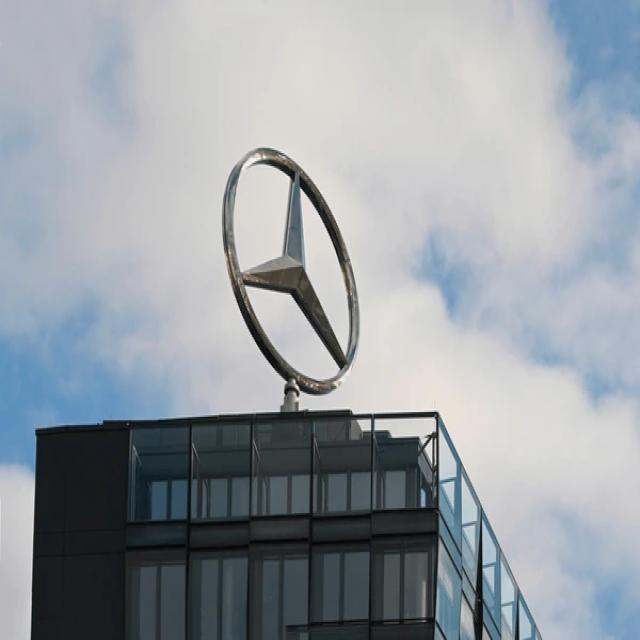mercedes: (220, 148, 361, 391)
